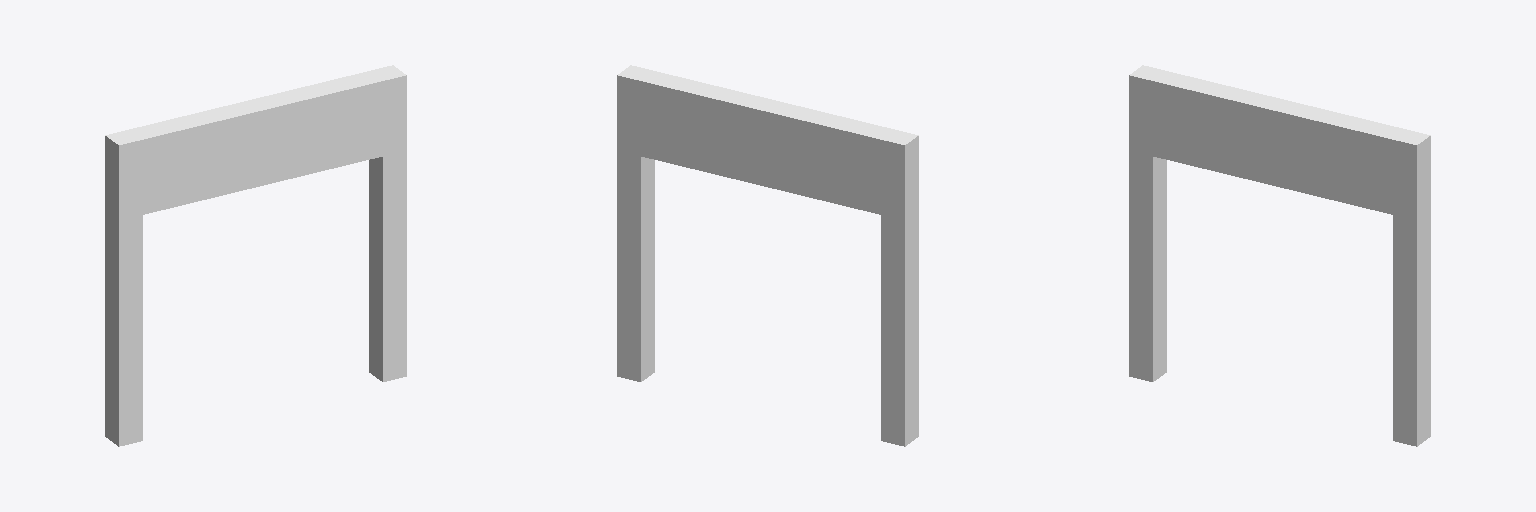
The model's file is citygate.obj.
3 views of the same model, side by side, from view 1: azimuth 30°, elevation 25°; view 2: azimuth 150°, elevation 25°; view 3: azimuth 330°, elevation 25° (orthographic).
Parts seen in each view (by area): view 1: object 1; view 2: object 1; view 3: object 1.
Part boxes in pixels (bbox=[...]): object 1: bbox=[105, 65, 406, 446]; object 1: bbox=[617, 65, 918, 446]; object 1: bbox=[1129, 65, 1430, 446].
Size of the model in its own units: 12 by 12 by 1.